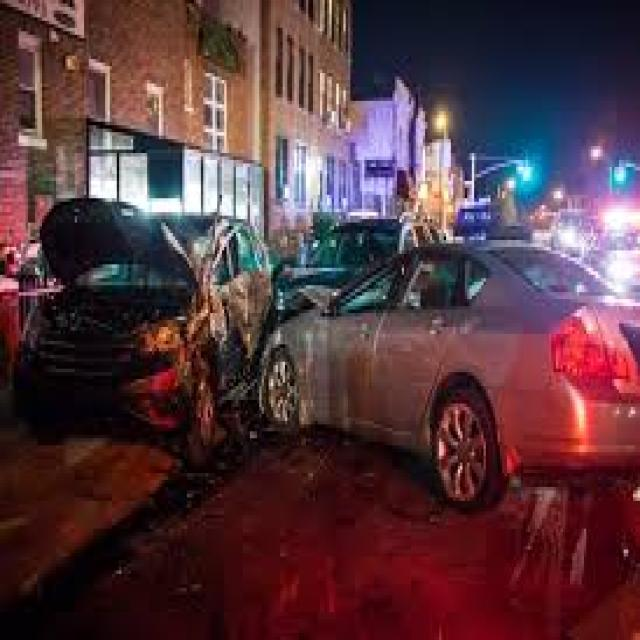Accident: (12, 189, 640, 516)
